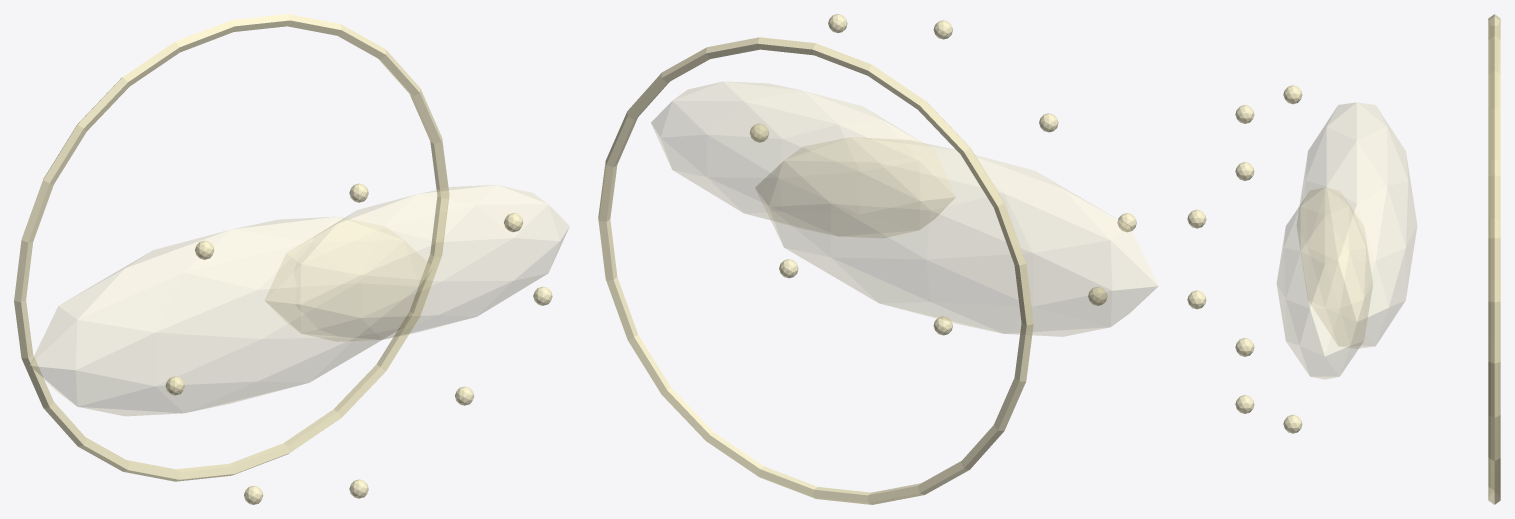
The model's file is 04_atmosphere.glb.
3 views of the same model, side by side, from view 1: azimuth 30°, elevation 25°; view 2: azimuth 150°, elevation 25°; view 3: azimuth 270°, elevation 25° (orthographic). The views are drawn at different scales.
Parts seen in each view (by area): view 1: cloud_or_nebula_a, cloud_or_nebula_b, horizon_ring; view 2: cloud_or_nebula_a, cloud_or_nebula_b, horizon_ring; view 3: cloud_or_nebula_a, cloud_or_nebula_b, horizon_ring.
Part boxes in pixels (x1,y1,x2,y2): cloud_or_nebula_a: (29, 217, 432, 415); cloud_or_nebula_b: (265, 185, 569, 341); horizon_ring: (14, 14, 449, 481); cloud_or_nebula_a: (755, 137, 1158, 336); cloud_or_nebula_b: (651, 81, 955, 237); horizon_ring: (598, 37, 1033, 504); cloud_or_nebula_a: (1297, 102, 1416, 348); cloud_or_nebula_b: (1277, 188, 1372, 379); horizon_ring: (1488, 14, 1500, 504).
Bounding box in the file's own units: 1.85 × 1.54 × 0.979.
